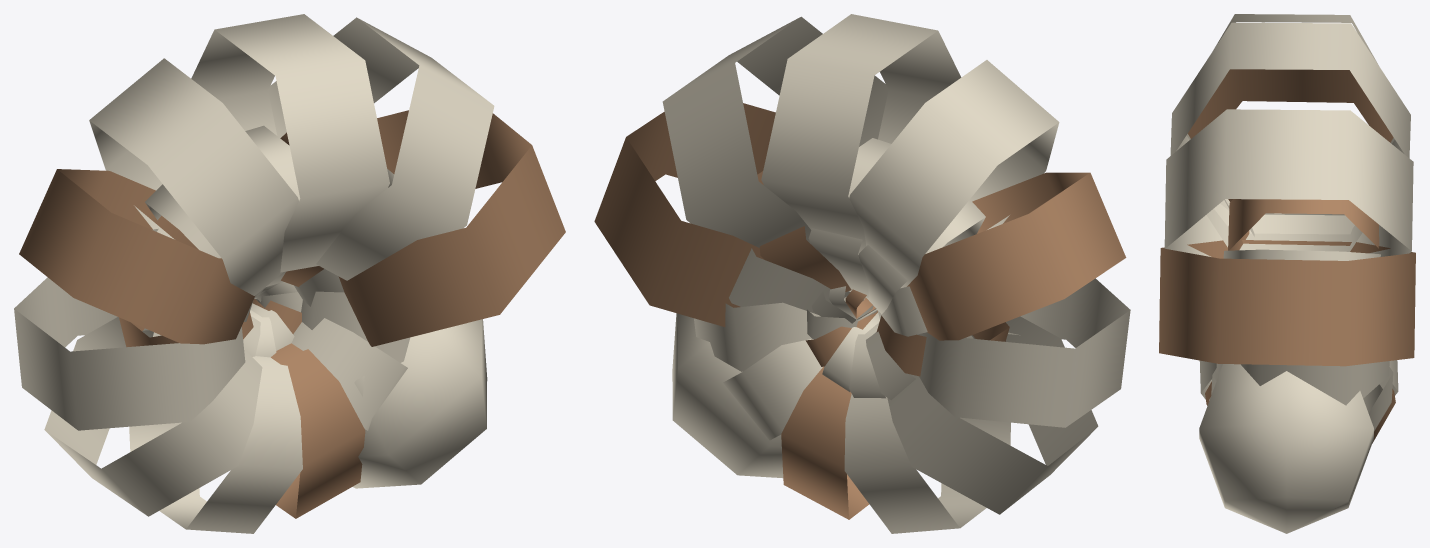
File: ing_snail_shell.gltf
The picture shows the model from 3 angles, left to right: view 1: azimuth 30°, elevation 25°; view 2: azimuth 150°, elevation 25°; view 3: azimuth 270°, elevation 25°; orthographic projection. The views are drawn at different scales.
Parts seen in each view (by area): view 1: ing_snail_shell; view 2: ing_snail_shell; view 3: ing_snail_shell.
Part boxes in pixels (box(x1,y1,x2,y2)): ing_snail_shell: box(14, 14, 565, 533); ing_snail_shell: box(594, 14, 1130, 533); ing_snail_shell: box(1159, 14, 1415, 533).
Size of what is drawn, in the model's own units: 0.1597 by 0.1442 by 0.0764.
